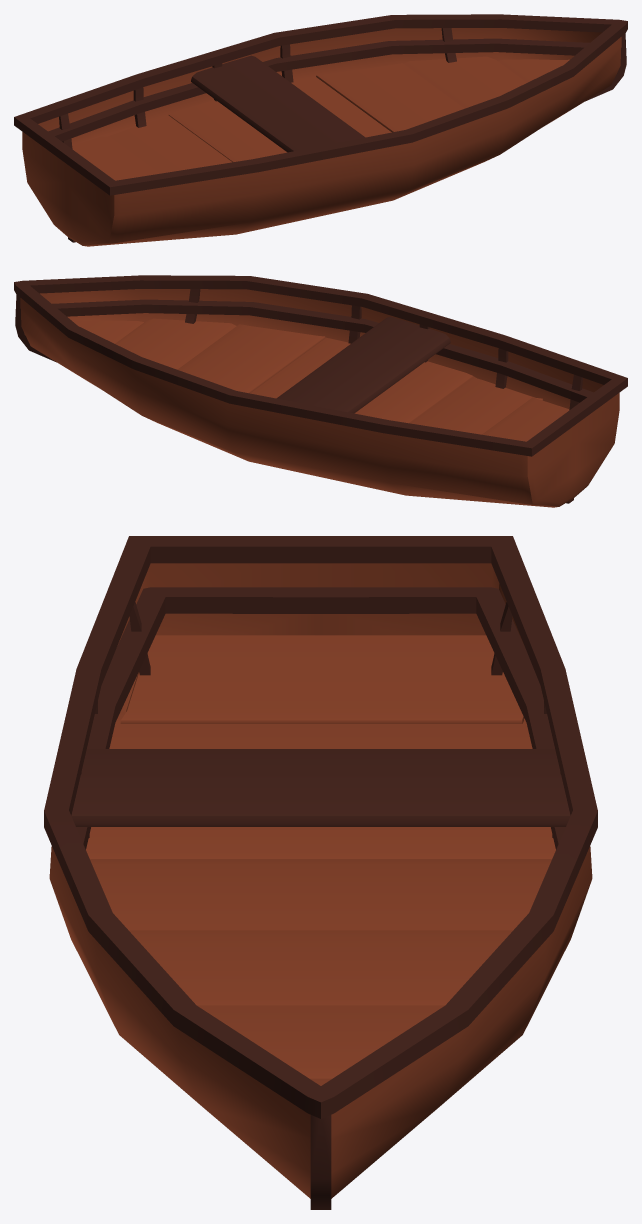
File: bbot.fbx
3 views of the same model, one above another, from view 1: azimuth 30°, elevation 25°; view 2: azimuth 150°, elevation 25°; view 3: azimuth 270°, elevation 25° (orthographic). The views are drawn at different scales.
Parts seen in each view (by area): view 1: Plane001; view 2: Plane001; view 3: Plane001.
Boxes of the visible parts, x1,y1,x2,y2 form: Plane001: (14,14,627,246); Plane001: (14,275,627,507); Plane001: (44,536,597,1209).
Size of the model in its own units: 259 by 41.47 by 110.
